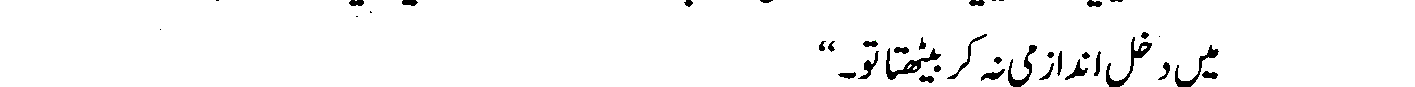bay_shosha: (928, 43, 947, 73)
